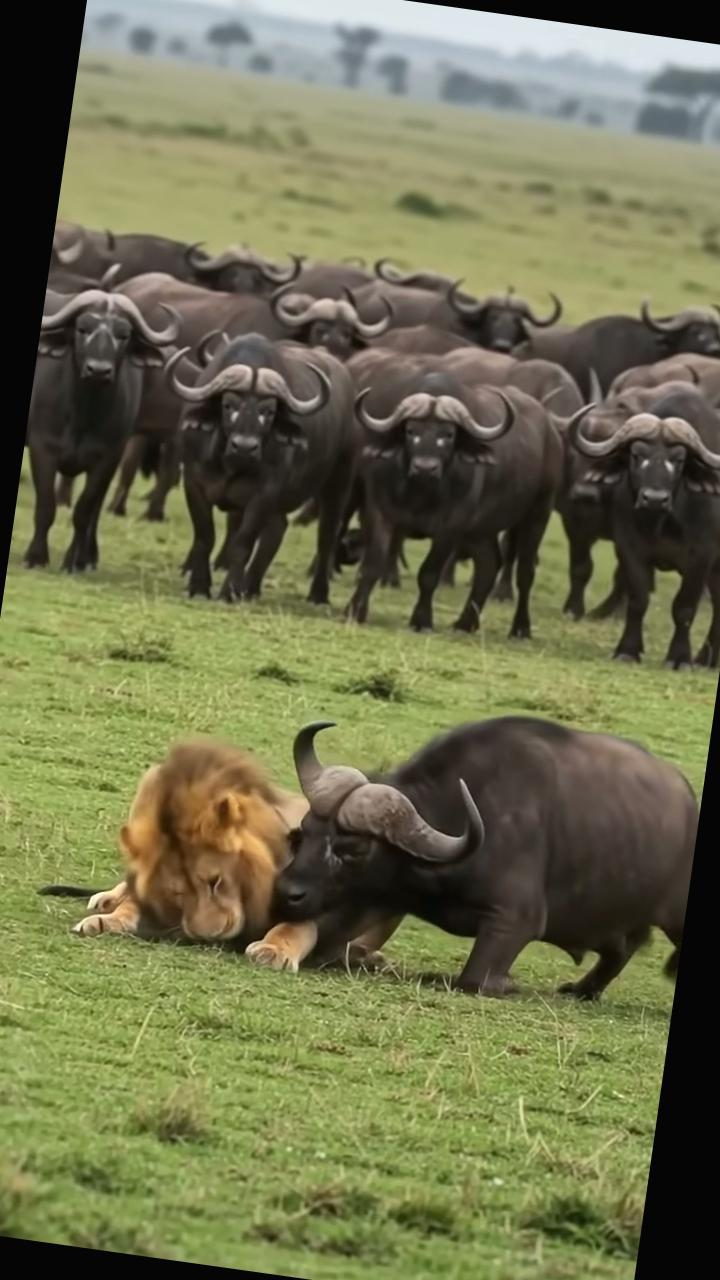Buffalo: (0, 175, 720, 727), (272, 681, 706, 993)
lions: (56, 712, 279, 994)
